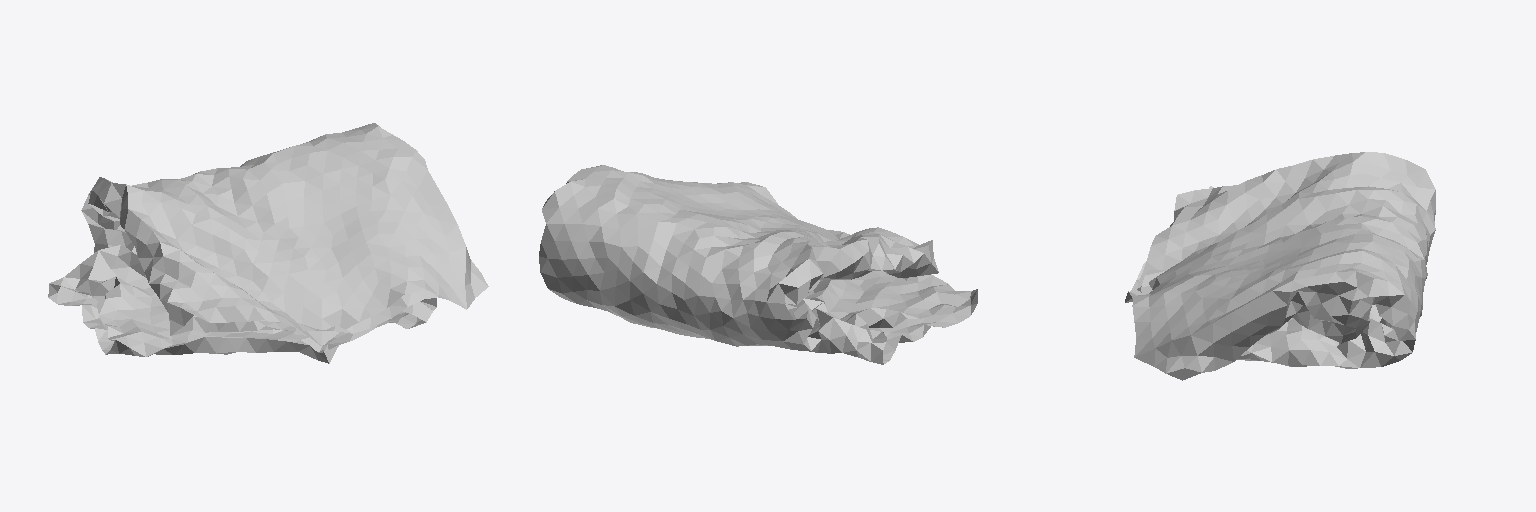
Rendered from tshirt1900-folding-triFolded.obj.
3 renders of one model, left to right at view 1: azimuth 30°, elevation 25°; view 2: azimuth 150°, elevation 25°; view 3: azimuth 270°, elevation 25°, orthographic.
Bounding box in the file's own units: 5.21 × 1.77 × 3.96.